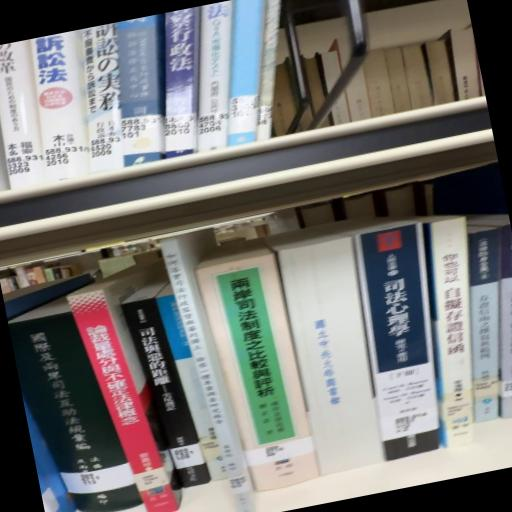backward: (271, 229, 384, 476)
book: (68, 256, 196, 512), (4, 281, 143, 512), (340, 224, 465, 466), (163, 232, 263, 495), (404, 213, 512, 453), (195, 247, 311, 455), (119, 284, 211, 502), (464, 221, 512, 420)
